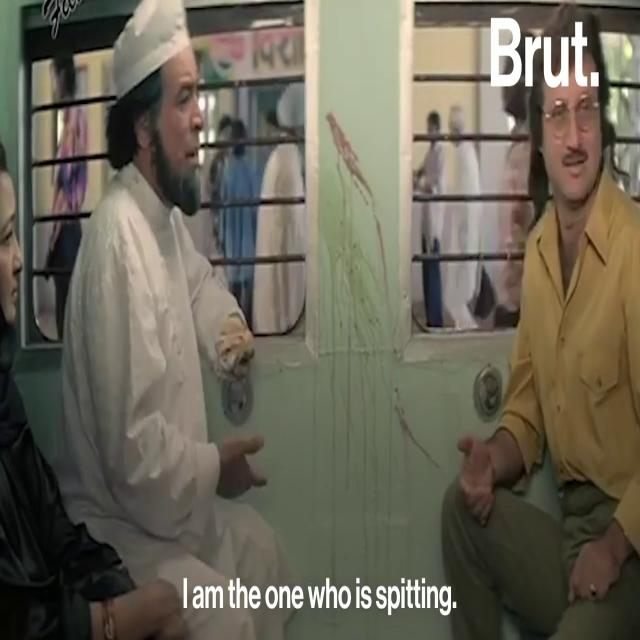spit: (315, 96, 400, 478)
